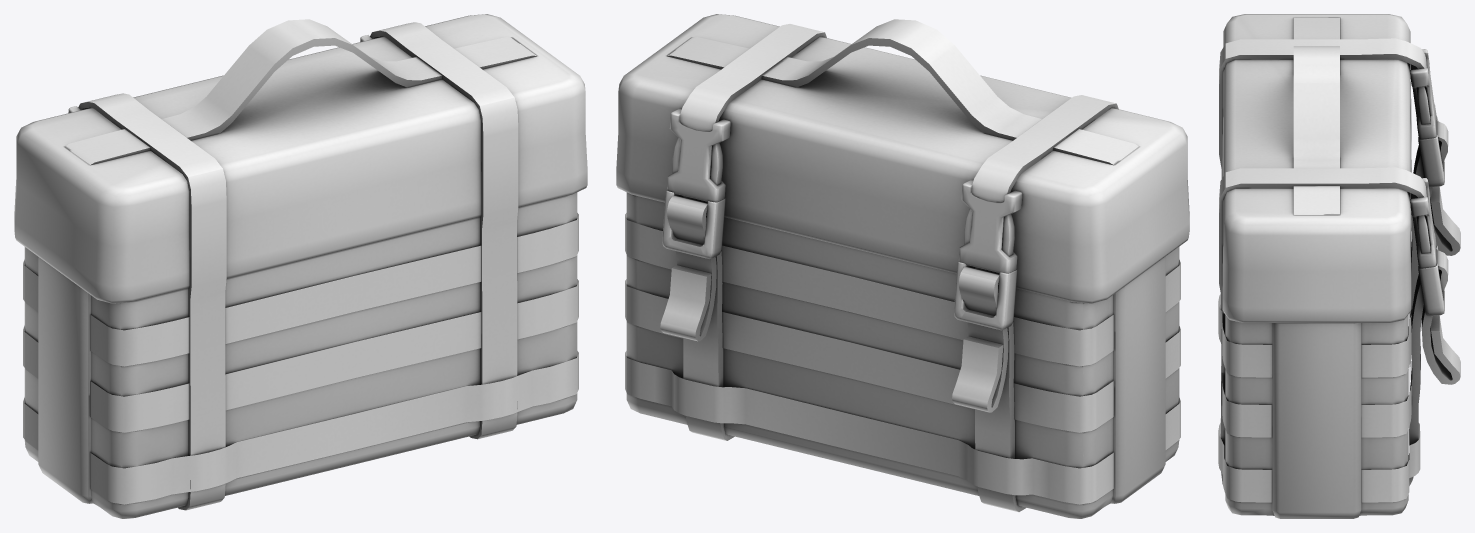
The model's file is bag.obj.
3 views of the same model, side by side, from view 1: azimuth 30°, elevation 25°; view 2: azimuth 150°, elevation 25°; view 3: azimuth 270°, elevation 25° (orthographic). The views are drawn at different scales.
Parts seen in each view (by area): view 1: Bag; view 2: Bag; view 3: Bag.
Boxes of the visible parts, <box> form: Bag: <box>14,14,587,518</box>; Bag: <box>616,14,1189,518</box>; Bag: <box>1218,14,1460,518</box>.
Size of the model in its own units: 2.12 by 1.69 by 1.
